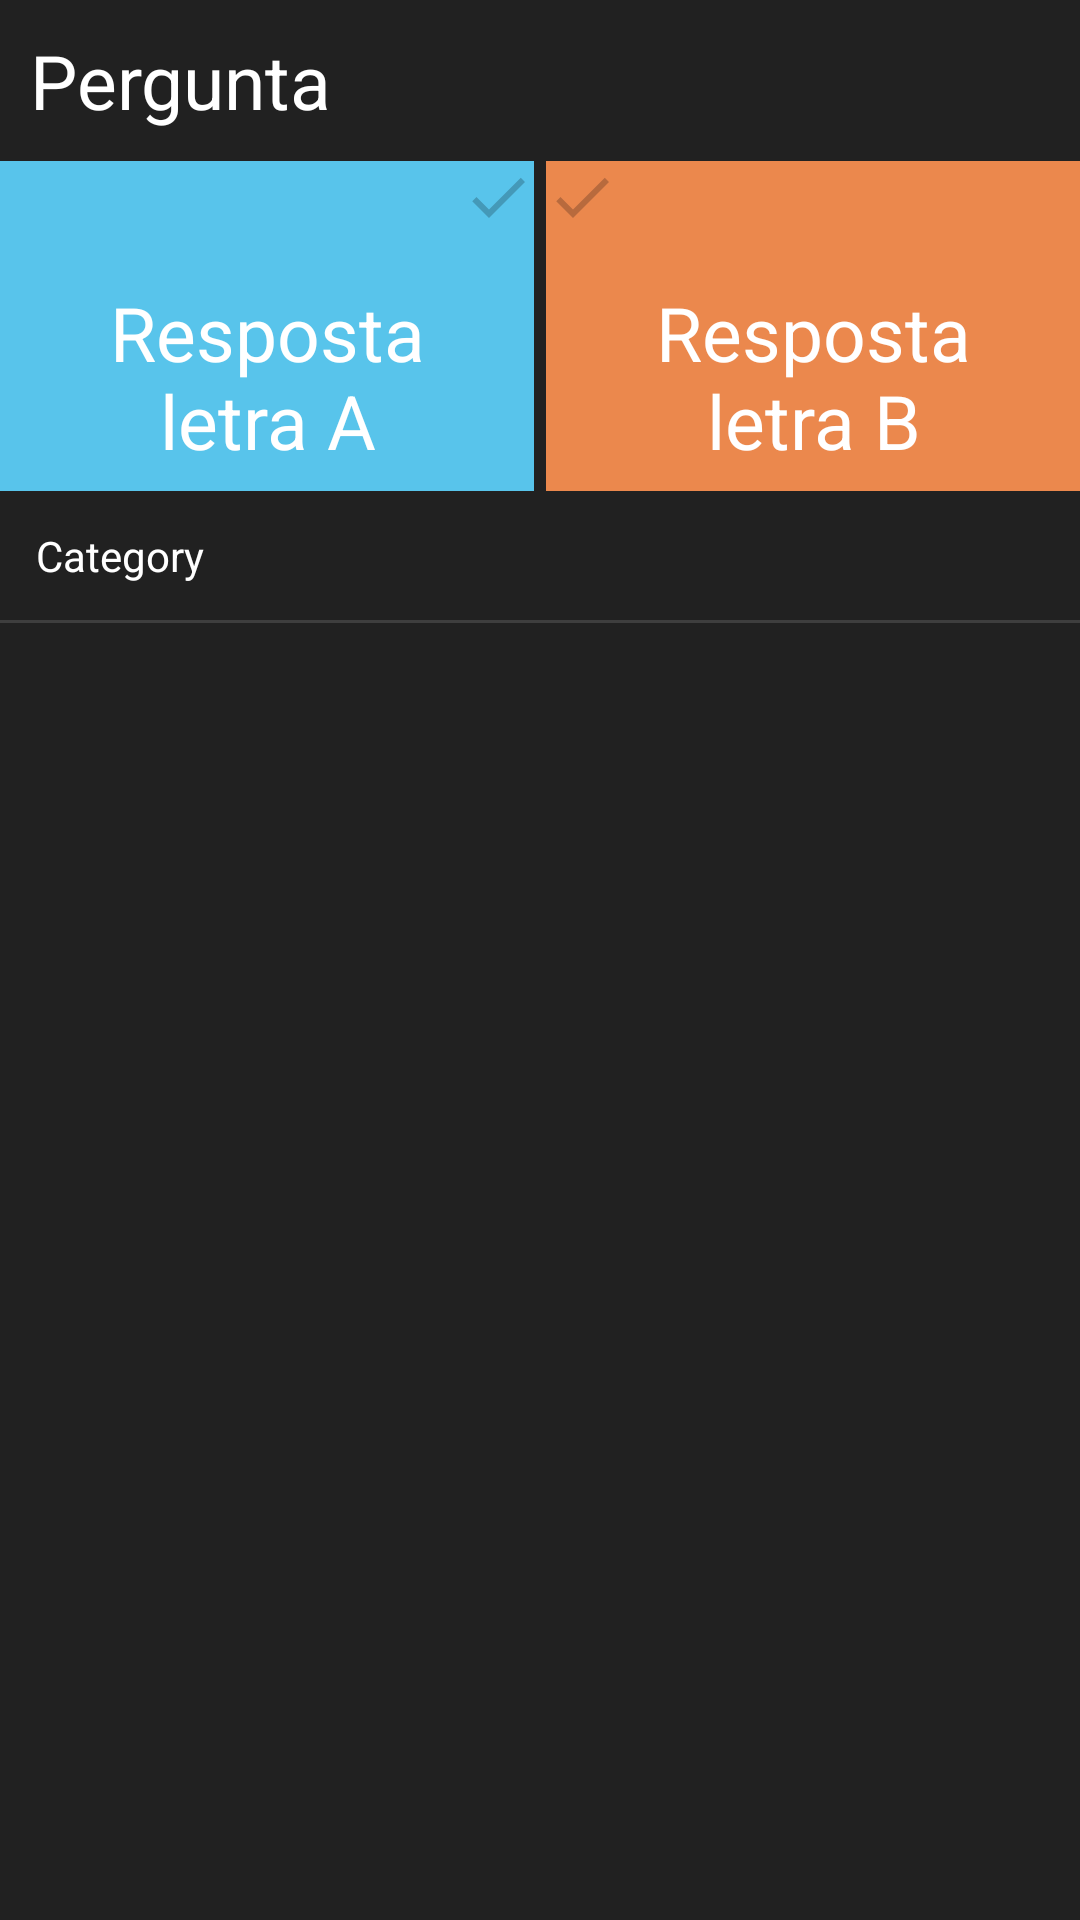

Screen size 1080×1920. Icon name, then its box in pixels as (x1, y1, x2, y2):
check: (473, 178, 525, 218), (557, 178, 609, 218)
